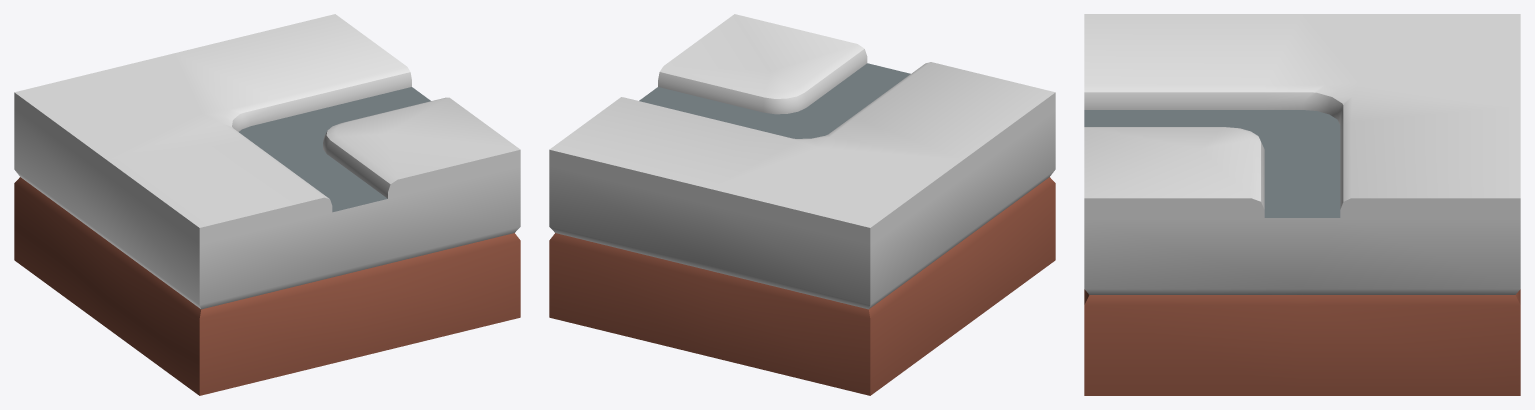
The model's file is square_snow_roadC_detail.fbx.
3 views of the same model, side by side, from view 1: azimuth 30°, elevation 25°; view 2: azimuth 150°, elevation 25°; view 3: azimuth 270°, elevation 25° (orthographic). The views are drawn at different scales.
Visible parts, largest first — view 1: square_snow_roadC_detail; view 2: square_snow_roadC_detail; view 3: square_snow_roadC_detail.
Boxes of the visible parts, x1=… form: square_snow_roadC_detail: x1=14, y1=14, x2=520, y2=395; square_snow_roadC_detail: x1=549, y1=14, x2=1055, y2=395; square_snow_roadC_detail: x1=1084, y1=14, x2=1520, y2=395.
Size of the model in its own units: 2 by 1 by 2.
